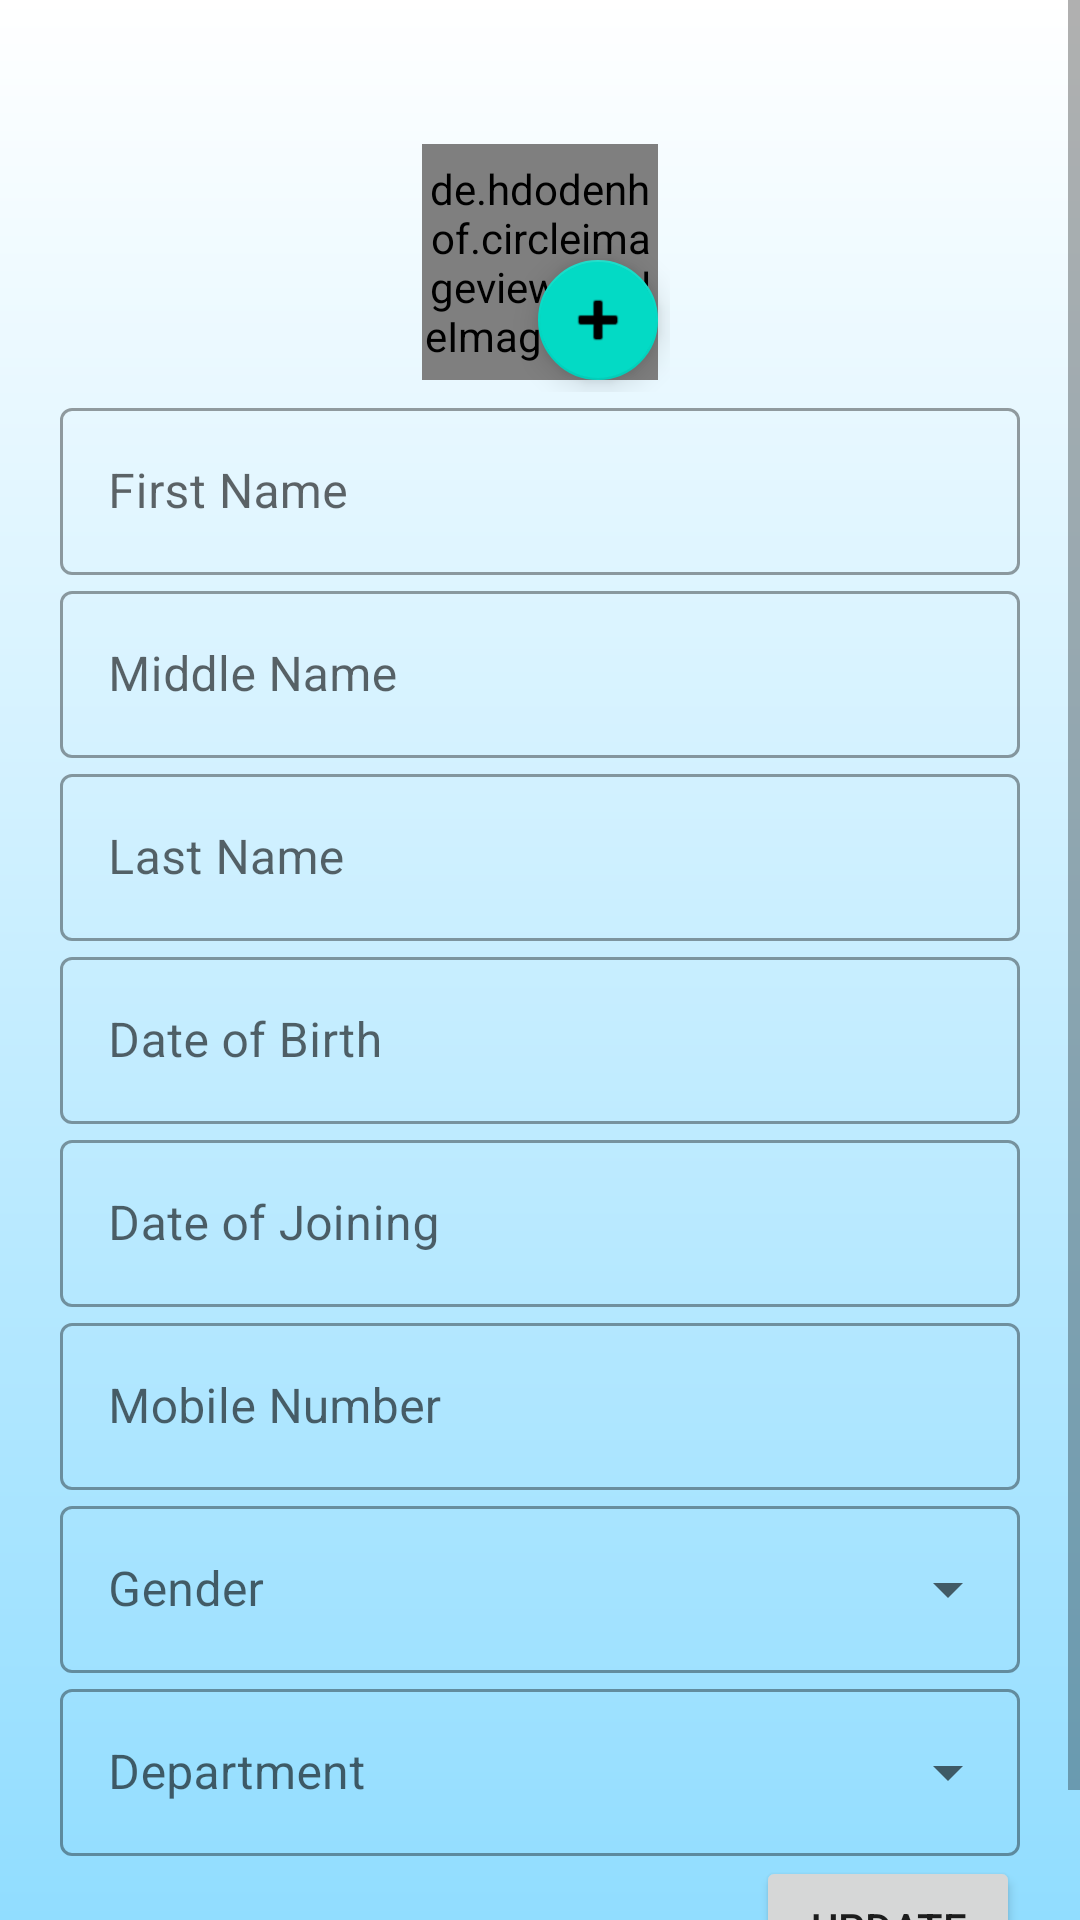

Named icons in this screenshot (1080 × 1920) and their centers, (x,y):
add: (598,320)
